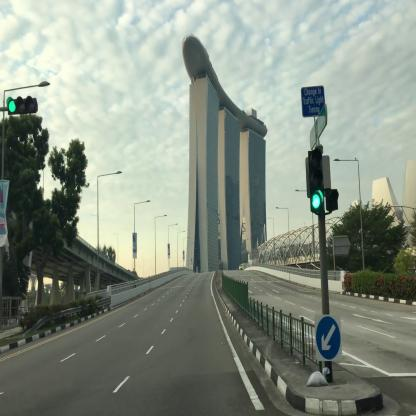green_traffic_light: (308, 150, 324, 212), (6, 98, 37, 112)
